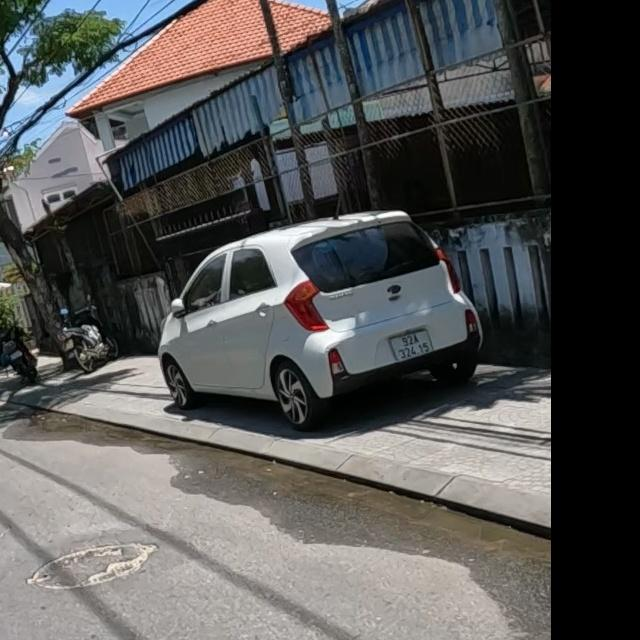license-plate: (389, 330, 433, 363)
